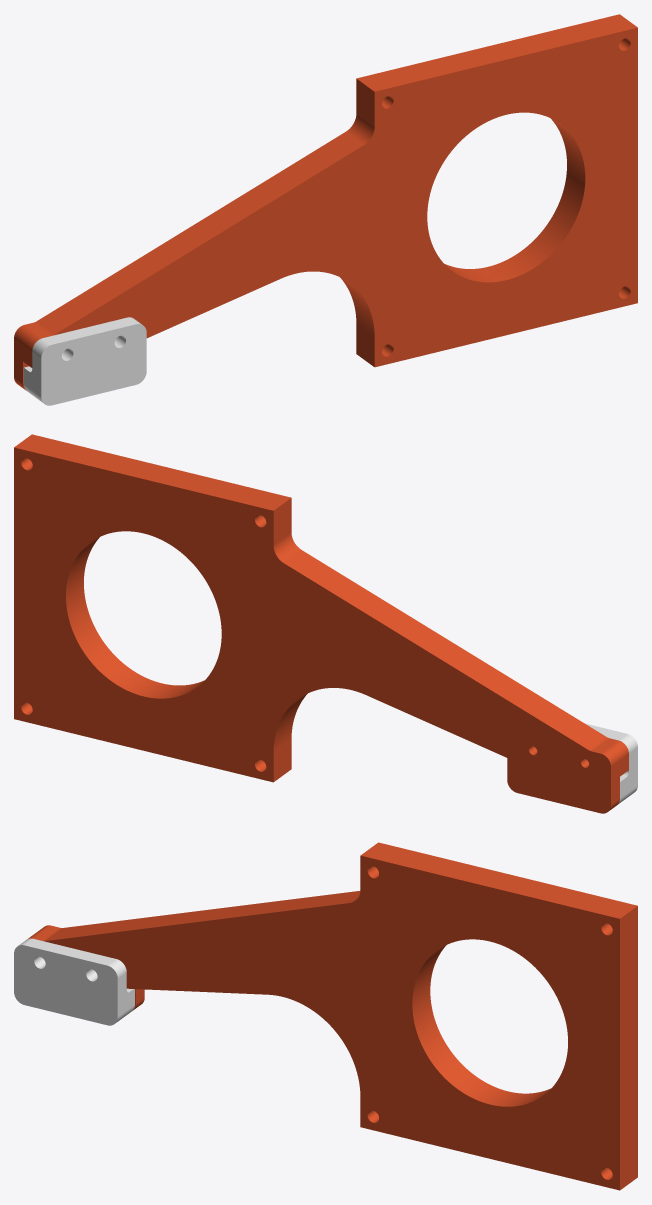
Rendered from blade_holder.dae.
The picture shows the model from 3 angles, top to bottom: view 1: azimuth 30°, elevation 25°; view 2: azimuth 150°, elevation 25°; view 3: azimuth 330°, elevation 25°; orthographic projection.
Parts seen in each view (by area): view 1: base, clamp; view 2: base, clamp; view 3: base, clamp.
Part boxes in pixels (box(x1,y1,x2,y2)): base: box(14, 14, 637, 390); clamp: box(23, 317, 146, 405); base: box(14, 434, 628, 813); clamp: box(585, 723, 637, 804); base: box(28, 842, 637, 1190); clamp: box(14, 938, 134, 1025).
Bounding box in the file's own units: 0.115 × 0.009 × 0.05.
